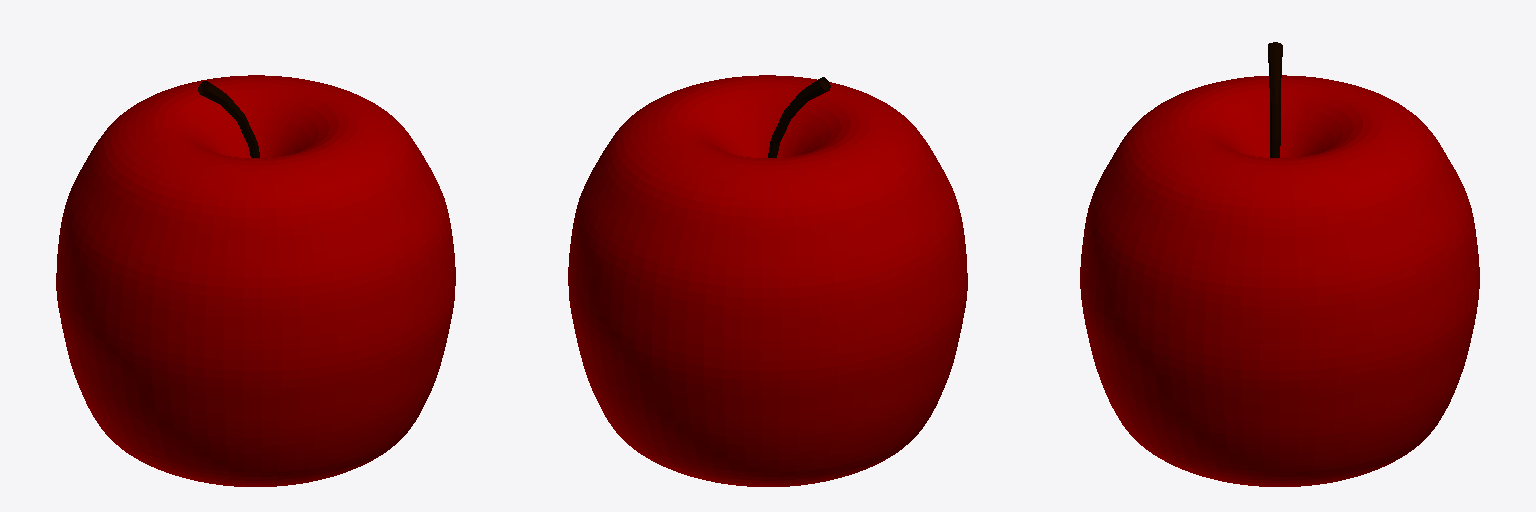
Rendered from DangoApple.obj.
3 views of the same model, side by side, from view 1: azimuth 30°, elevation 25°; view 2: azimuth 150°, elevation 25°; view 3: azimuth 270°, elevation 25° (orthographic).
Parts seen in each view (by area): view 1: 球体, 柱体; view 2: 球体, 柱体; view 3: 球体, 柱体.
Boxes of the visible parts, <box> form: 球体: <box>56,75,455,486</box>; 柱体: <box>198,81,259,157</box>; 球体: <box>568,75,967,486</box>; 柱体: <box>768,77,830,157</box>; 球体: <box>1080,75,1479,486</box>; 柱体: <box>1268,42,1282,157</box>.
Size of the model in its own units: 1.79 by 1.87 by 1.79.